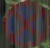No Stopping: (3, 1, 49, 46)
